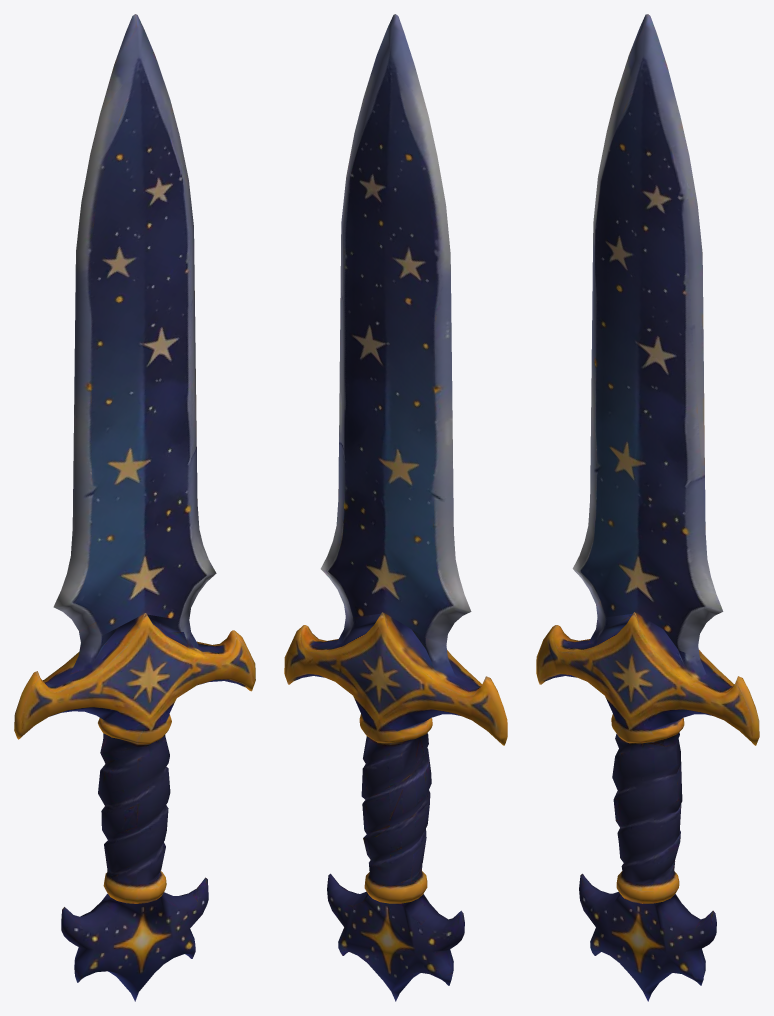
The model's file is astravyr_fang_of_the_fallen_star.glb.
The picture shows the model from 3 angles, left to right: view 1: azimuth 30°, elevation 25°; view 2: azimuth 150°, elevation 25°; view 3: azimuth 330°, elevation 25°; orthographic projection.
Parts seen in each view (by area): view 1: tripo_node_cc1b3b4a-9c85-45fa-bf4a-c589764f232c; view 2: tripo_node_cc1b3b4a-9c85-45fa-bf4a-c589764f232c; view 3: tripo_node_cc1b3b4a-9c85-45fa-bf4a-c589764f232c.
Part boxes in pixels (bbox=[...]): tripo_node_cc1b3b4a-9c85-45fa-bf4a-c589764f232c: bbox=[14, 14, 255, 1001]; tripo_node_cc1b3b4a-9c85-45fa-bf4a-c589764f232c: bbox=[284, 14, 507, 1001]; tripo_node_cc1b3b4a-9c85-45fa-bf4a-c589764f232c: bbox=[536, 14, 759, 1001].
Size of the model in its own units: 0.3152 by 1.28 by 0.0855.
Materials: 1 (1 with a texture image).
